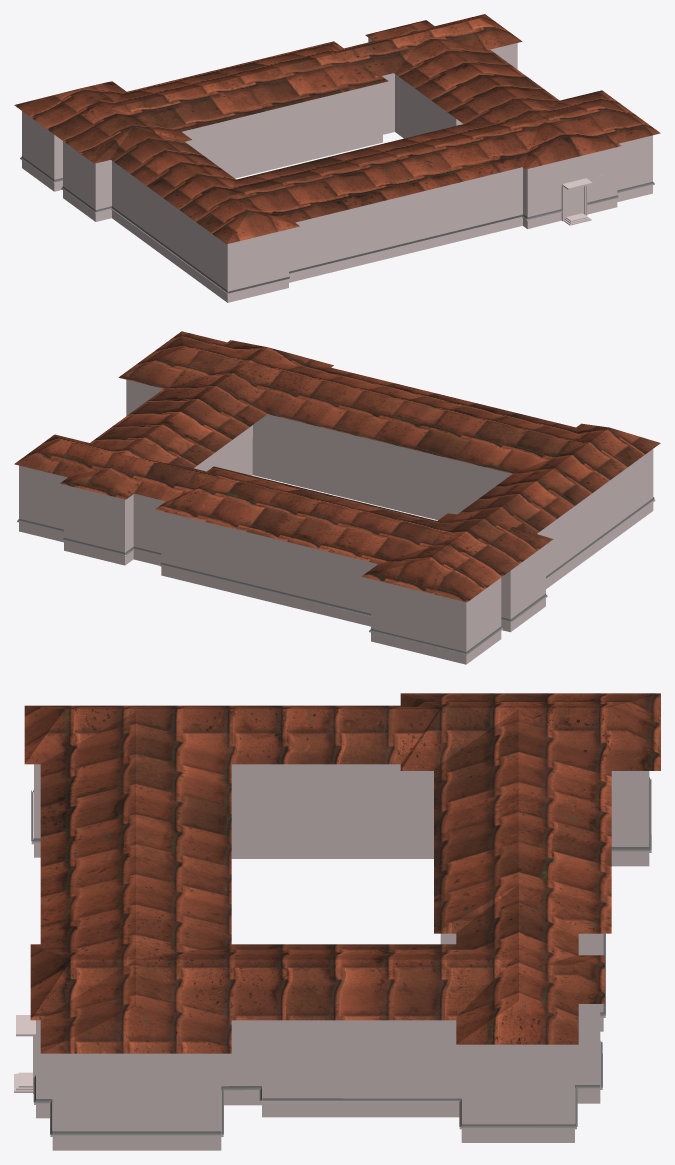
Rendered from mateinfo2.glb.
3 views of the same model, one above another, from view 1: azimuth 30°, elevation 25°; view 2: azimuth 150°, elevation 25°; view 3: azimuth 270°, elevation 25° (orthographic). The views are drawn at different scales.
Visible parts, largest first — view 1: Shape_IndexedFaceSet.050, Shape_IndexedFaceSet, Shape_IndexedFaceSet.018; view 2: Shape_IndexedFaceSet.050, Shape_IndexedFaceSet, Shape_IndexedFaceSet.014; view 3: Shape_IndexedFaceSet.050, Shape_IndexedFaceSet, Shape_IndexedFaceSet.005, Shape_IndexedFaceSet.001.
Part boxes in pixels (box(x1,y1,x2,y2)): Shape_IndexedFaceSet.050: box(14, 14, 660, 244); Shape_IndexedFaceSet: box(20, 38, 654, 302); Shape_IndexedFaceSet.018: box(289, 214, 523, 273); Shape_IndexedFaceSet.050: box(14, 331, 660, 602); Shape_IndexedFaceSet: box(17, 379, 655, 664); Shape_IndexedFaceSet.014: box(161, 562, 370, 616); Shape_IndexedFaceSet.050: box(24, 693, 660, 1053); Shape_IndexedFaceSet: box(14, 764, 651, 1150); Shape_IndexedFaceSet.005: box(52, 1131, 220, 1135); Shape_IndexedFaceSet.001: box(262, 1098, 461, 1101).
Bounding box in the file's own units: 3164 × 521 × 2397.
3 materials, 1 textured.
